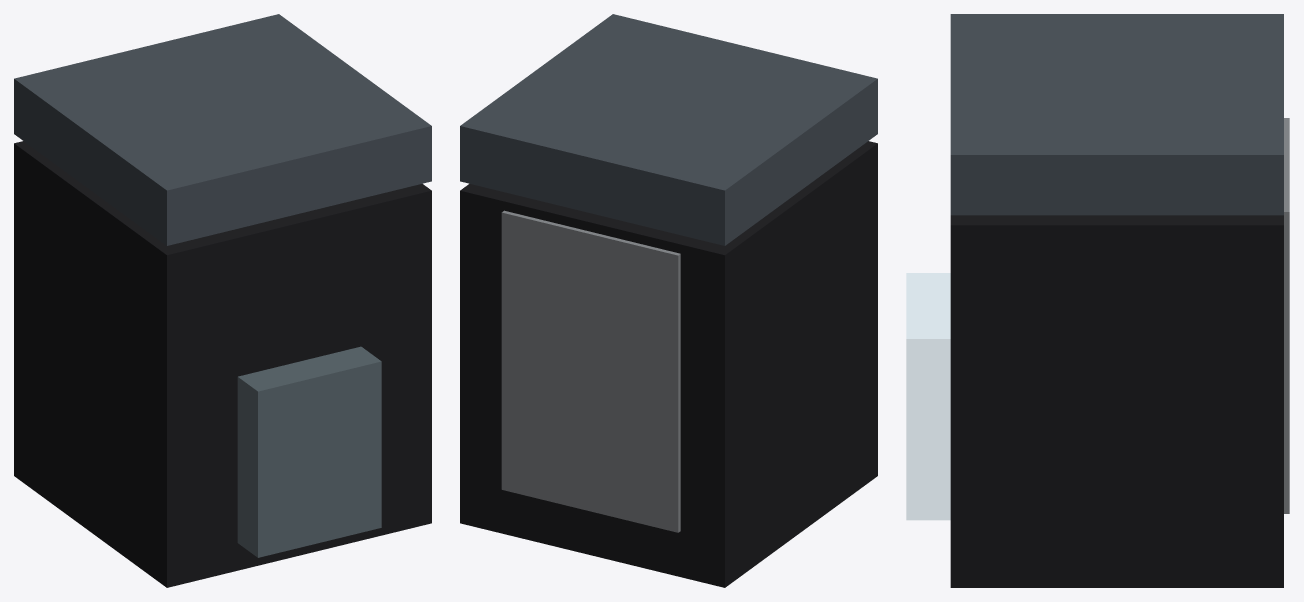
Rendered from GH_CoffeeMachine_01.glb.
The picture shows the model from 3 angles, left to right: view 1: azimuth 30°, elevation 25°; view 2: azimuth 150°, elevation 25°; view 3: azimuth 270°, elevation 25°; orthographic projection. The views are drawn at different scales.
Parts seen in each view (by area): view 1: GH_CoffeeMachine_01; view 2: GH_CoffeeMachine_01; view 3: GH_CoffeeMachine_01.
Boxes of the visible parts, <box> form: GH_CoffeeMachine_01: <box>14,14,431,587</box>; GH_CoffeeMachine_01: <box>460,14,877,587</box>; GH_CoffeeMachine_01: <box>906,14,1289,587</box>.
Bounding box in the file's own units: 0.3 × 0.43 × 0.345.
2 materials, 2 textured.
